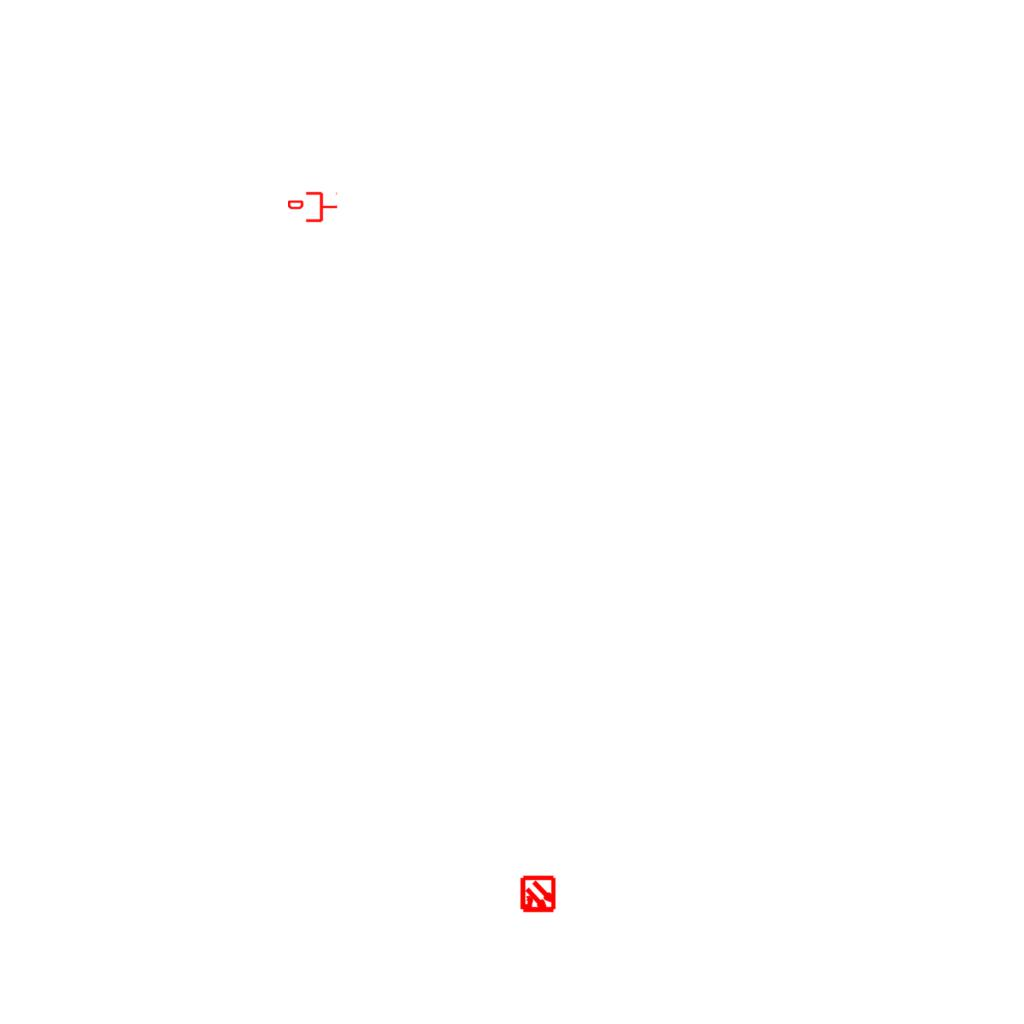Datenanschluss_einfach: (288, 190, 338, 224)
OT_Multisensormelder_(Kombination_RMO_WMD): (510, 867, 566, 923)
